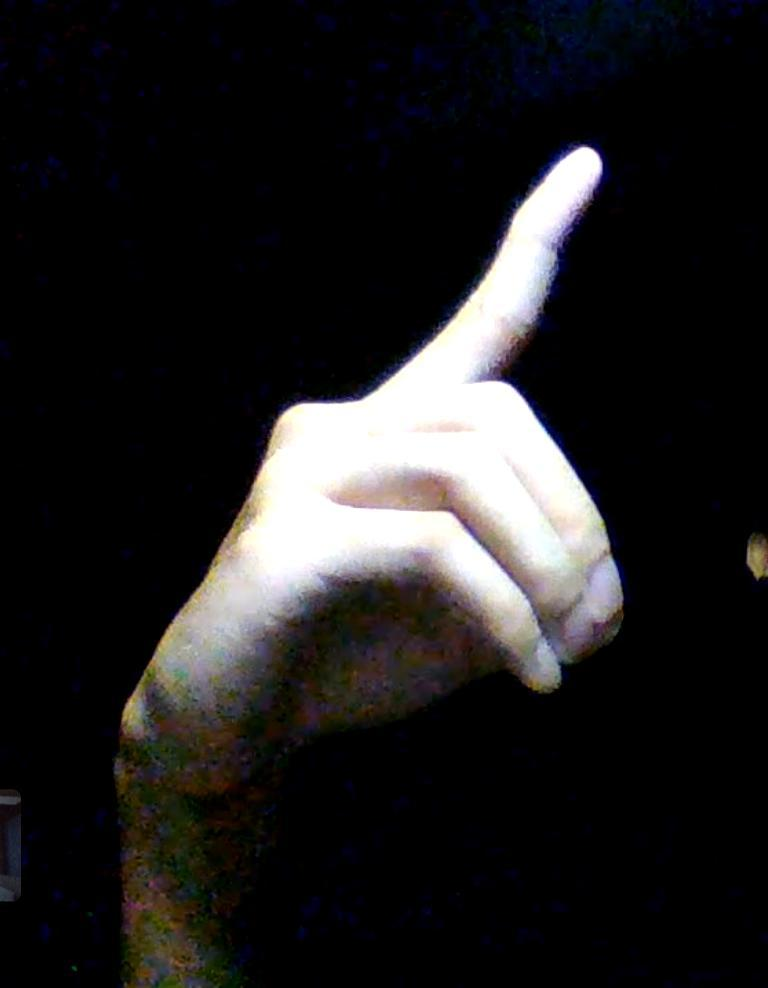d: (124, 147, 626, 780)
